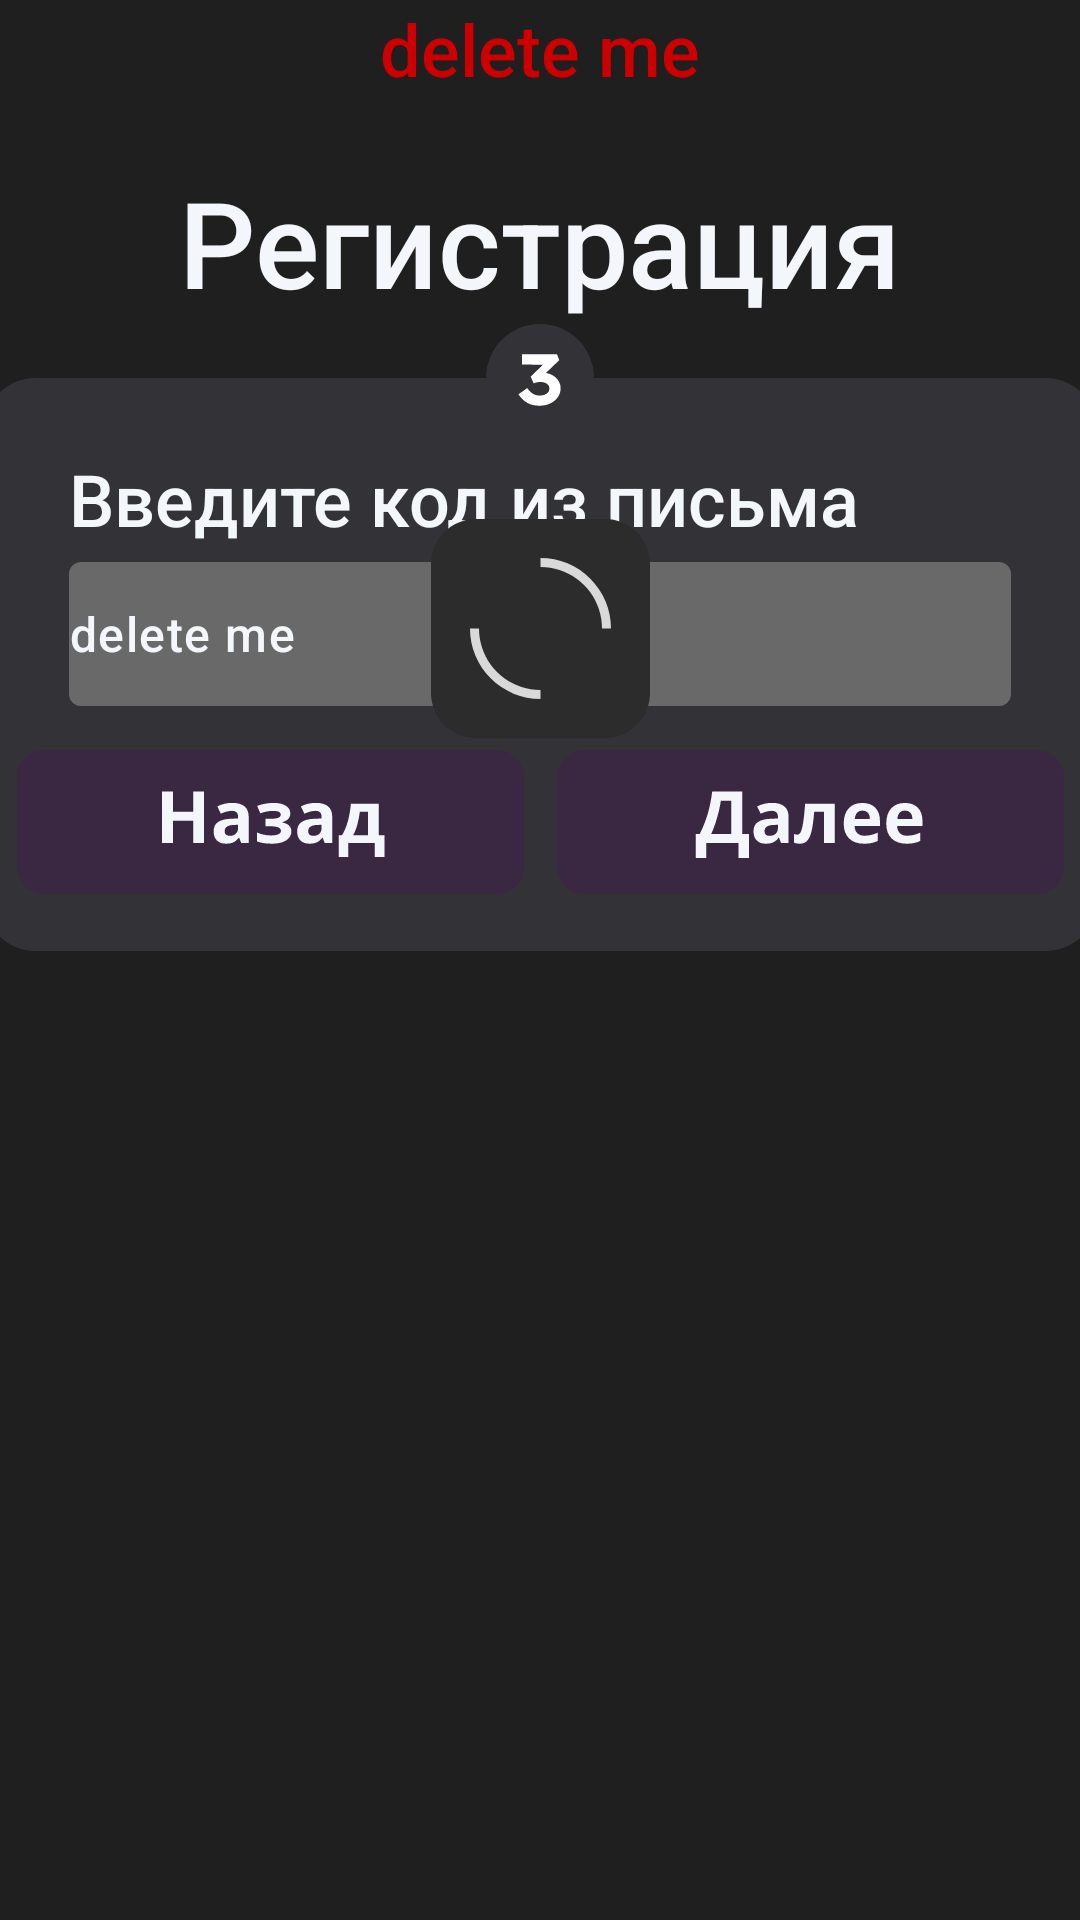

Where to tap for icons on this 1080*1920 app screen, as point (x, y):
loading anim: point (540, 628)
pagenumberimage: point (540, 370)
